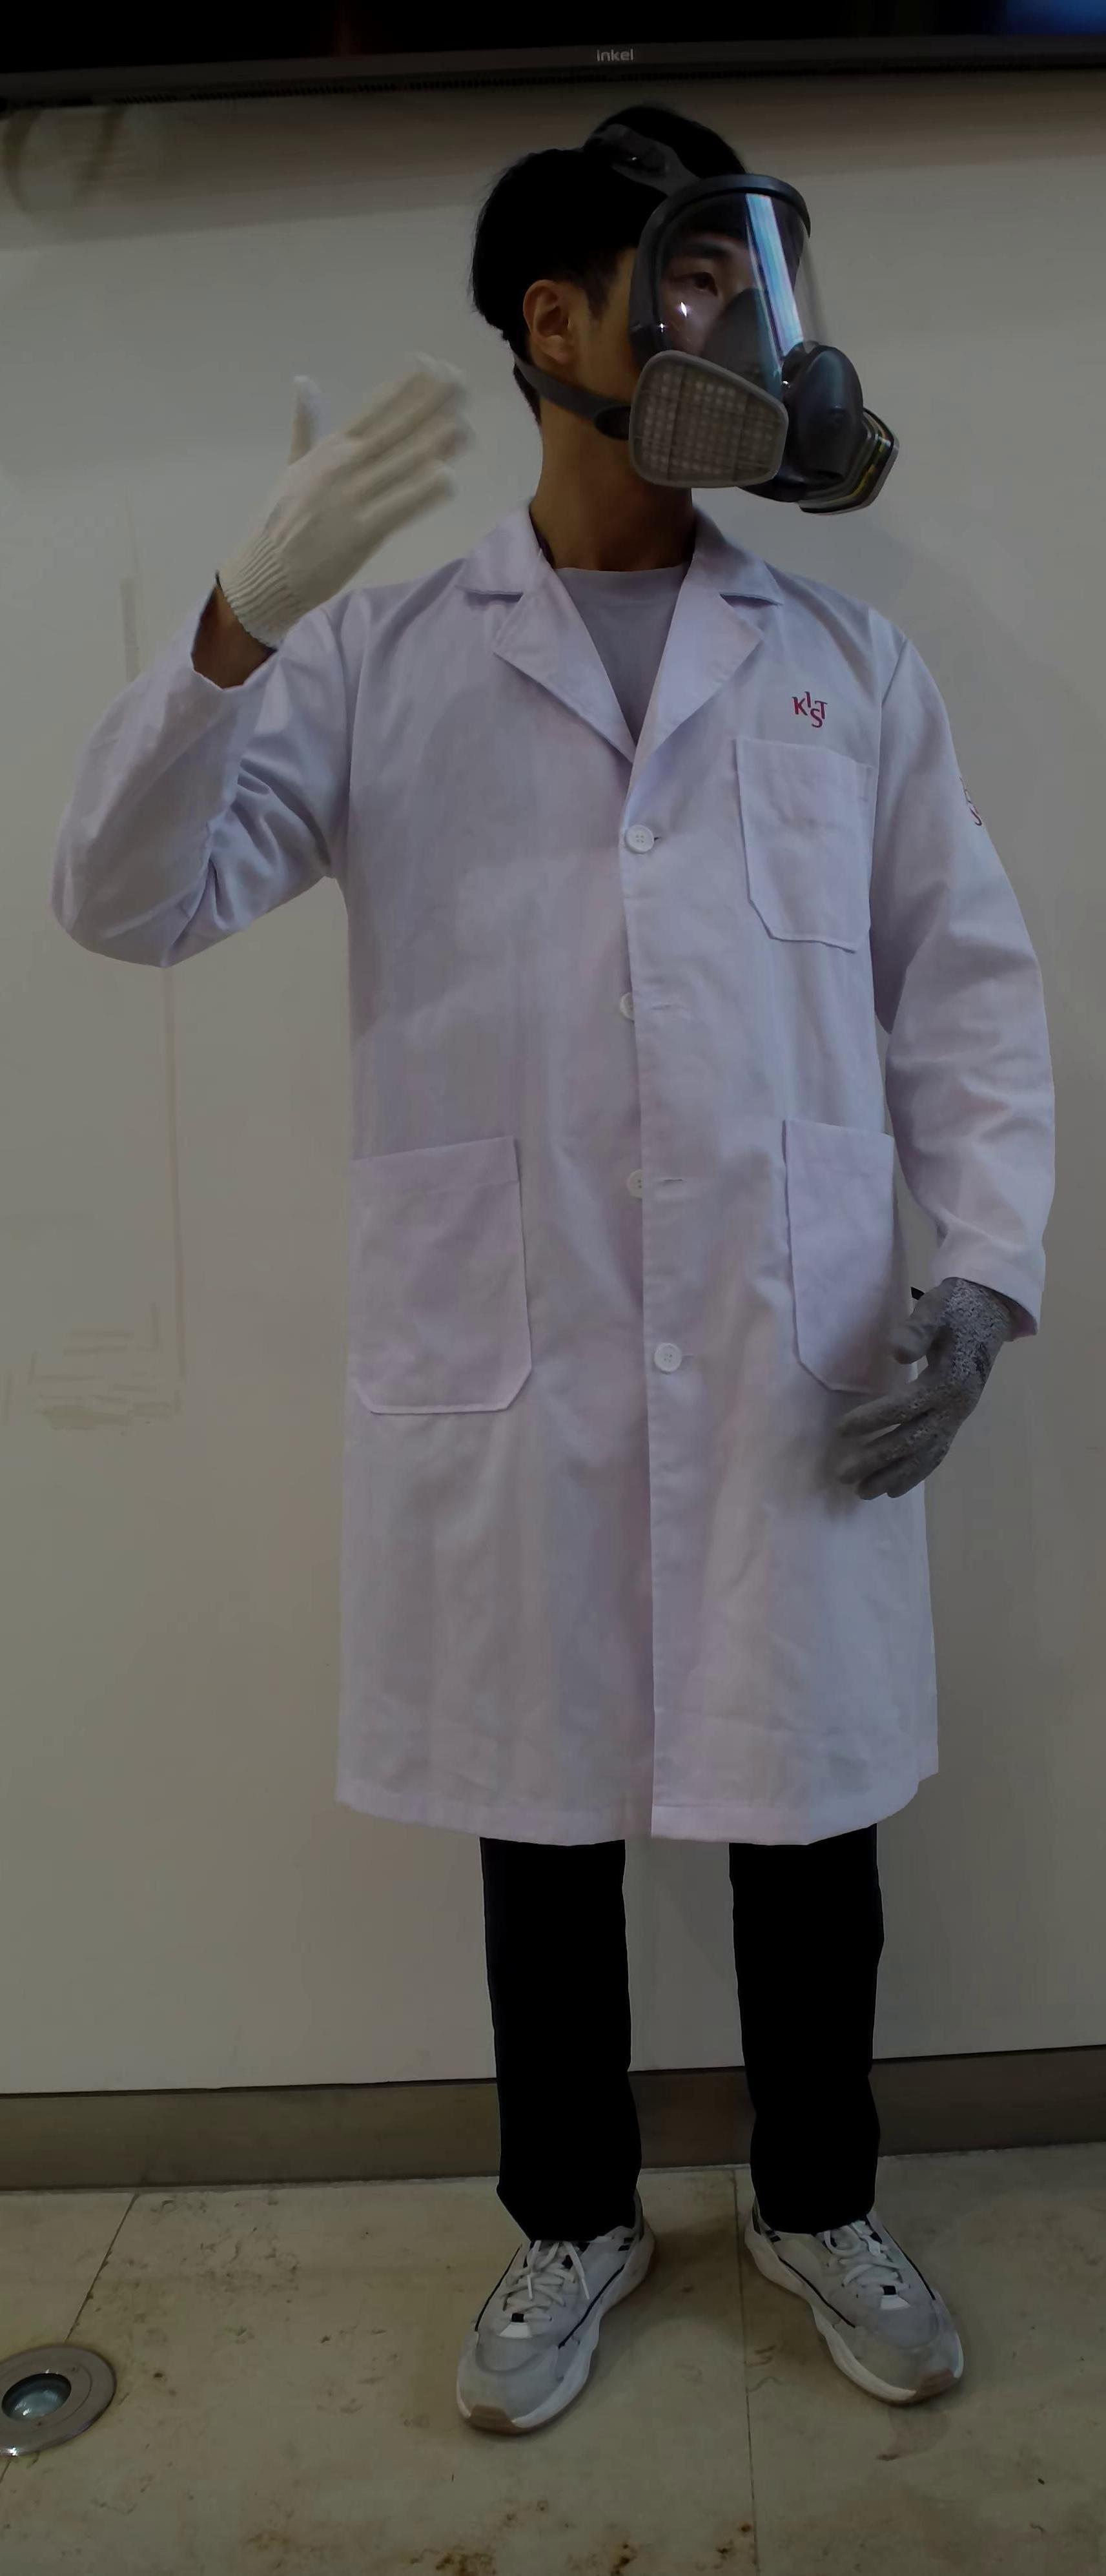lab_coat: (337, 570, 864, 1853)
